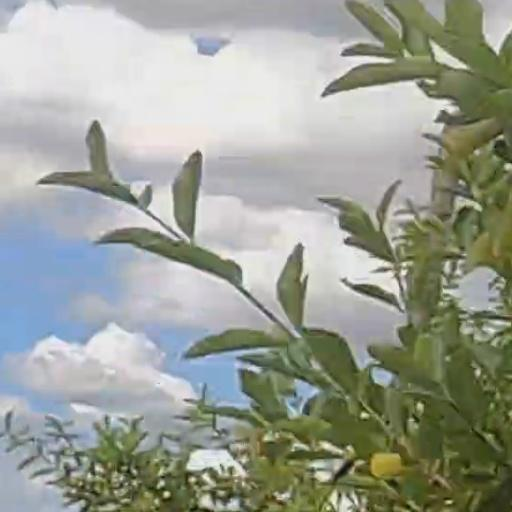acerola: (369, 451, 401, 477)
